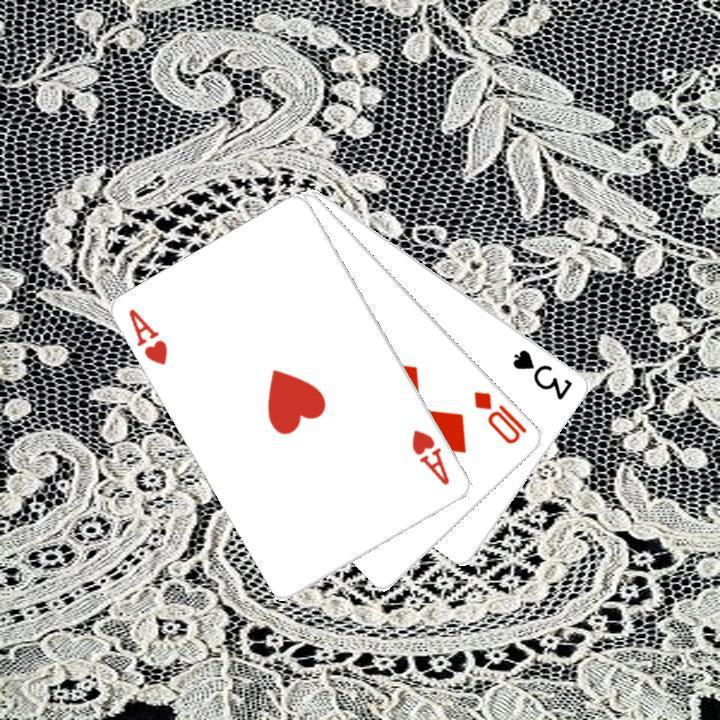10: (469, 386, 530, 446)
3: (508, 345, 575, 402)
A: (124, 304, 171, 367), (407, 425, 453, 488)
